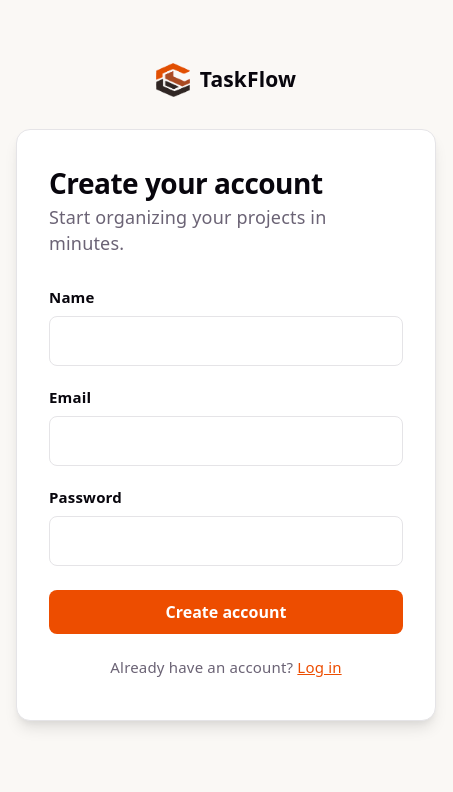
Scenario: RegisterPage › shows field errors returned by the API
The width and height of the screenshot is (453, 792).
In the field labelled "Name": (226, 341) [49,316,403,366], type "Ada Lovelace"
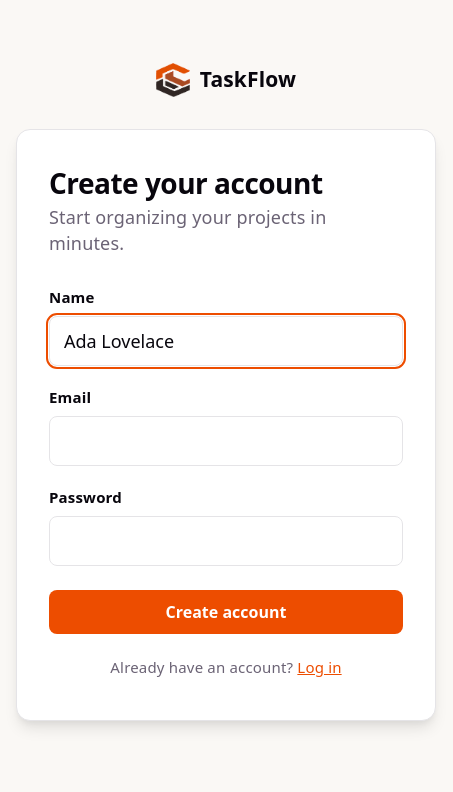
In the field labelled "Email": (226, 441) [49,416,403,466], type "ada@example.com"
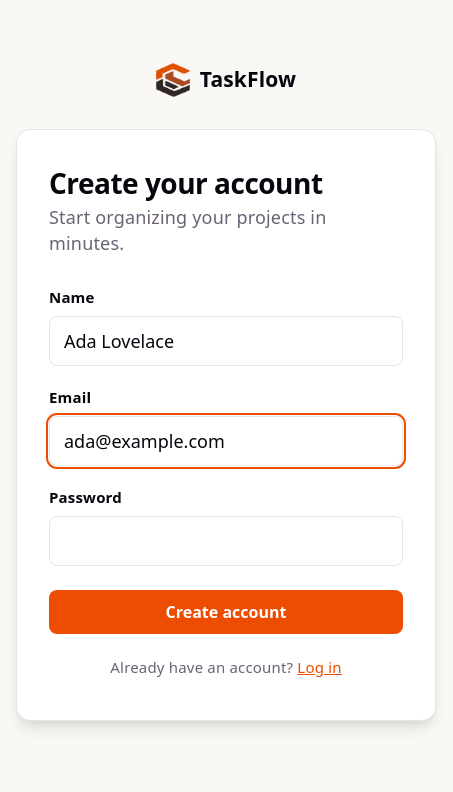
In the password field labelled "Password": (226, 541) [49,516,403,566], type "secret-password"
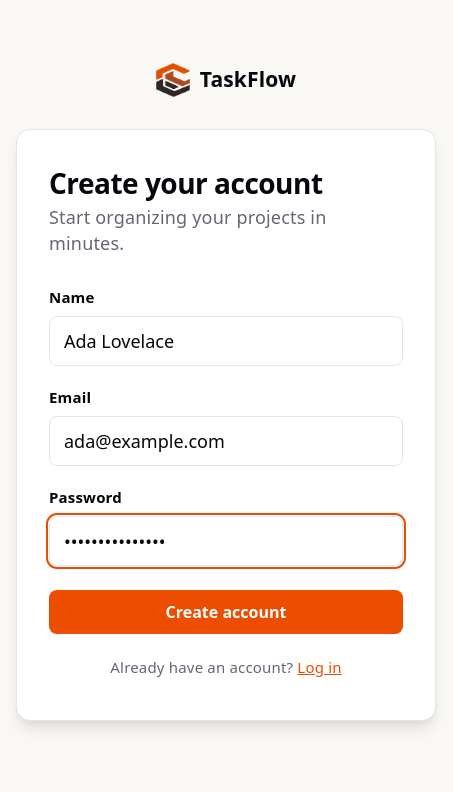
Click the button "Create account": (226, 612) [49,590,403,634]
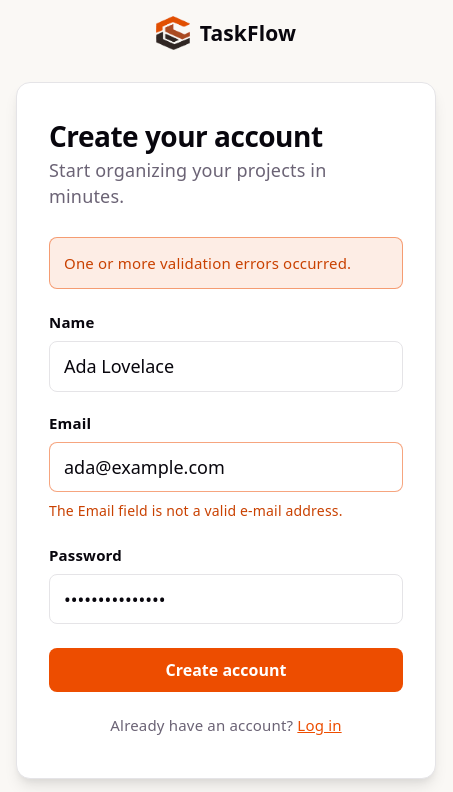
Now the text "The Email field is not a valid e-mail address." is shown, box [49,501,343,520]
